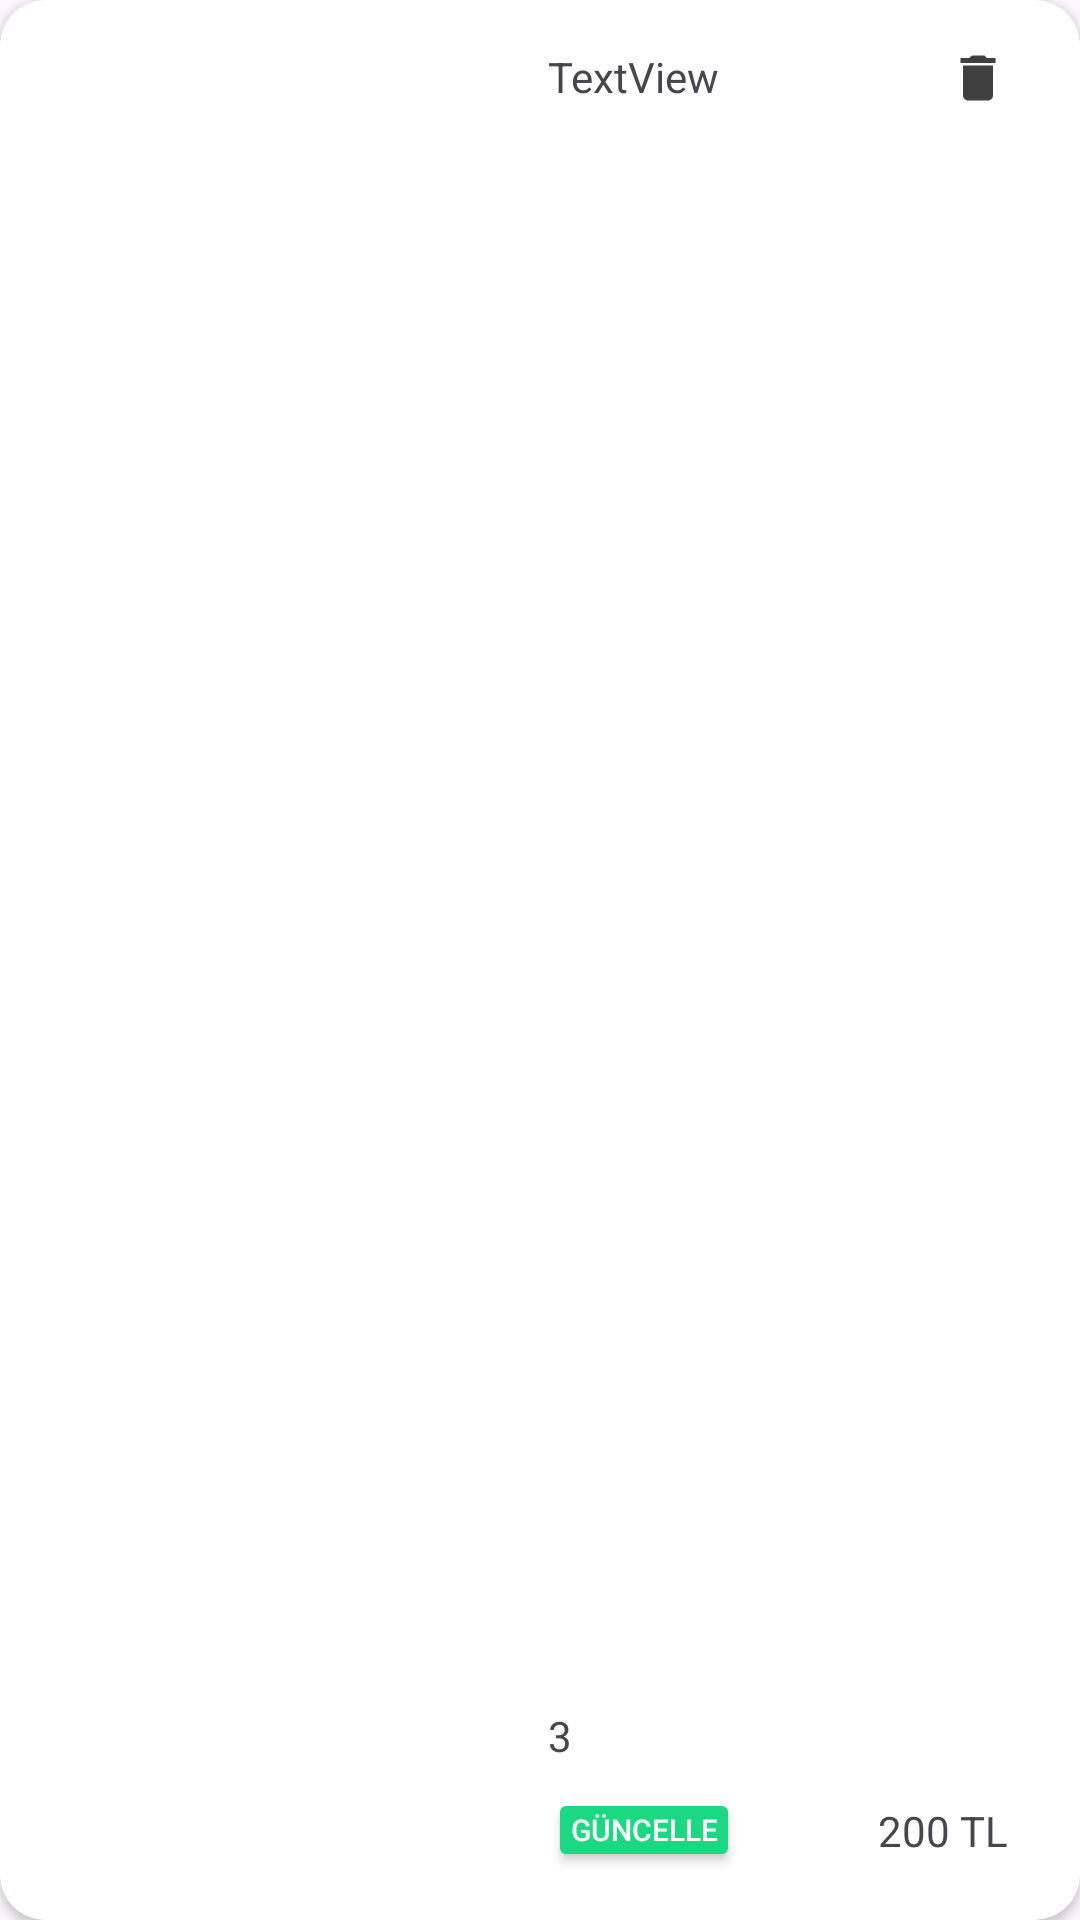

Point at icon controls on the screen. Image size 1080×1920, points as point (x, y).
delete: point (978, 78)
